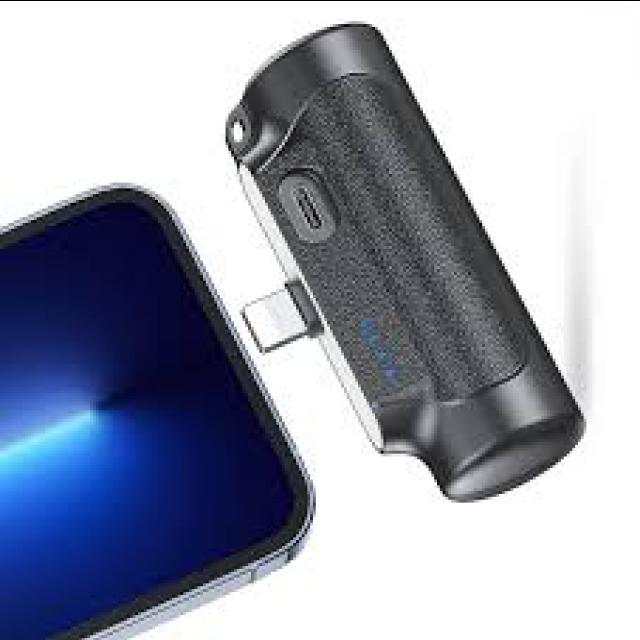power_bank: (215, 19, 590, 503)
